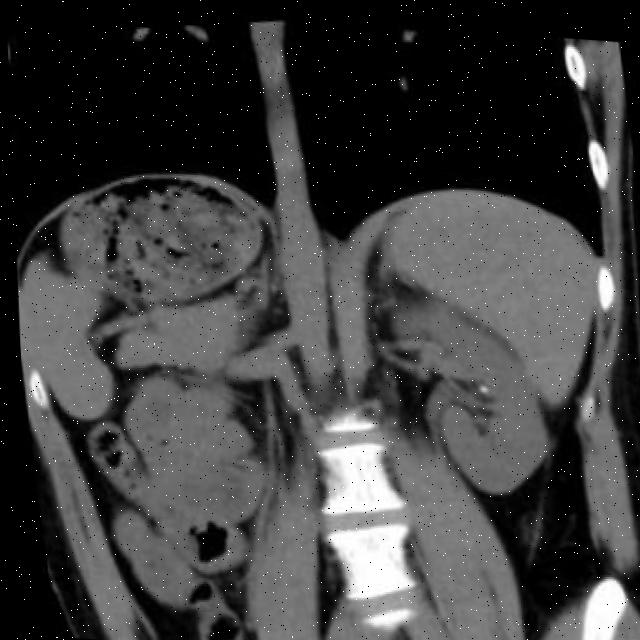Tas_Var: (474, 375, 488, 389)
